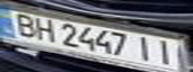2: (54, 20, 81, 48)
4: (75, 25, 96, 52), (93, 28, 112, 55)
7: (109, 29, 130, 57)
B: (9, 11, 42, 38)
H: (30, 16, 60, 43)
I: (151, 38, 178, 66), (133, 34, 157, 62)
